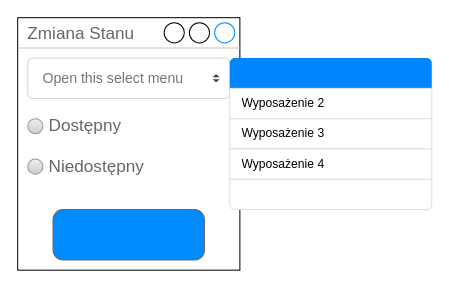
Image size: 449x288. Some labels were removed from this diagram. Each missing label, with the box of its shape:
Confirm: (52, 209, 205, 260)
Wyposażenie 1: (229, 58, 431, 88)
Wyposażenie 5: (229, 178, 432, 210)
